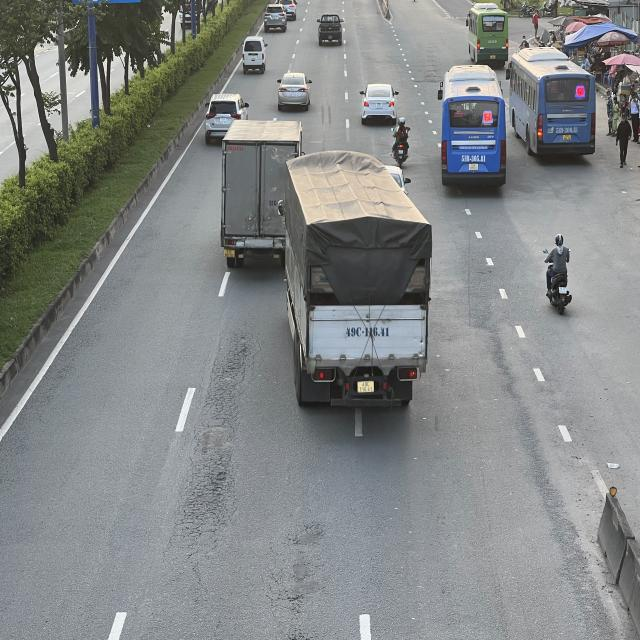car: (204, 92, 248, 141), (360, 82, 400, 124), (276, 72, 312, 112), (316, 12, 344, 46), (264, 3, 288, 31)
coach: (508, 46, 598, 160), (438, 64, 506, 184), (470, 2, 512, 63)
truck: (289, 151, 438, 415), (220, 122, 300, 270)
van: (240, 37, 265, 74)
